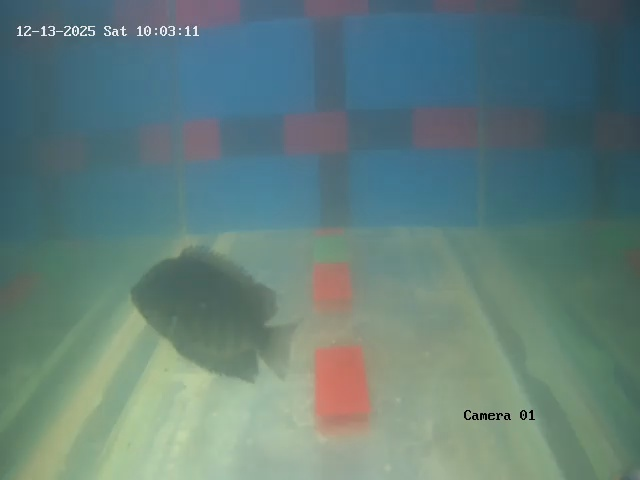fish: (131, 247, 270, 375)
